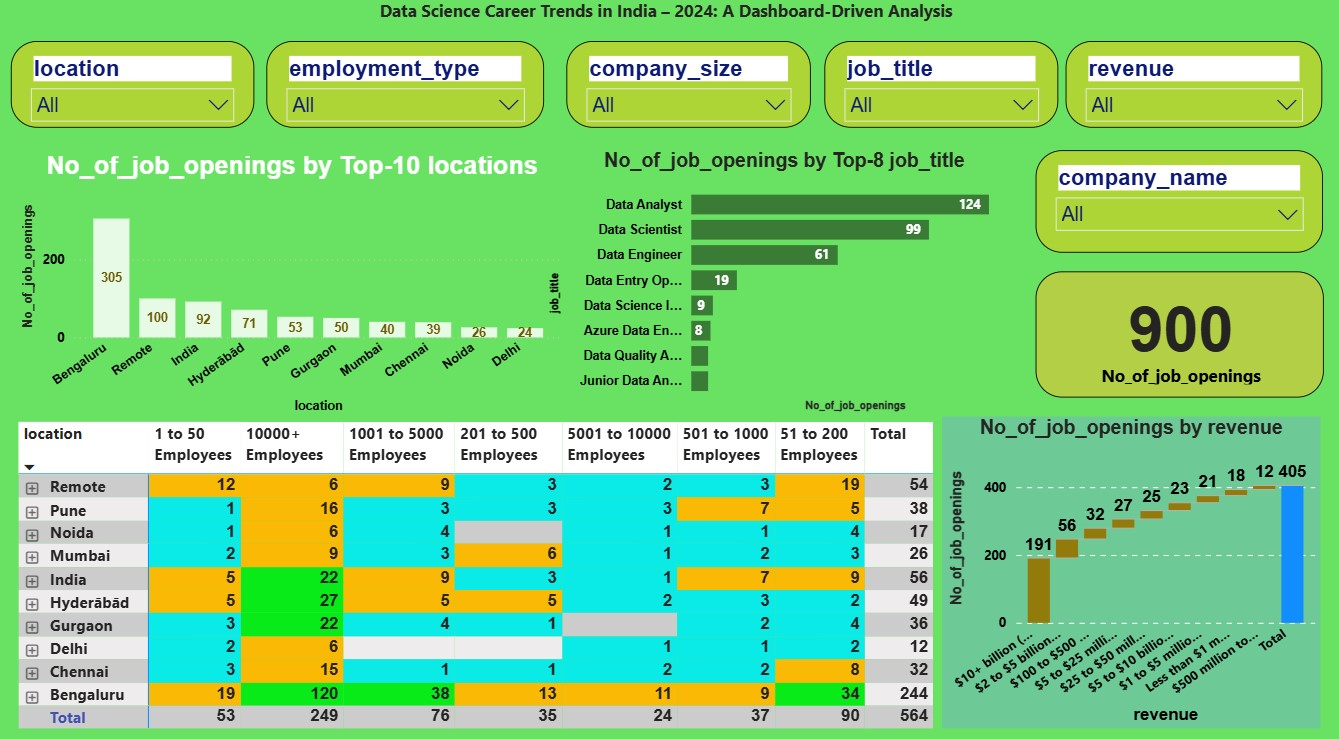

Layout of this report page (visuals, bound fields, positions):
{"tool":"powerbi","page":{"name":"Page 1","canvas":[1280,720],"ordinal":0},"visuals":[{"type":"slicer","fields":{"Values":["Glass door data science jobs -.location"]},"box":[15.7,45.7,231.4,82.9],"z":0},{"type":"slicer","fields":{"Values":["Glass door data science jobs -.job_title"]},"box":[790,45.7,222.9,82.9],"z":1000},{"type":"slicer","fields":{"Values":["Glass door data science jobs -.employment_type"]},"box":[258.6,45.7,264.3,82.9],"z":2000},{"type":"slicer","fields":{"Values":["Glass door data science jobs -.company_size"]},"box":[544.3,45.7,232.9,82.9],"z":3000},{"type":"slicer","fields":{"Values":["Glass door data science jobs -.company_name"]},"box":[990.9,150,273.7,97.3],"z":4000},{"type":"clusteredColumnChart","title":"No_of_job_openings by Top-10 locations","fields":{"Category":["Glass door data science jobs -.location"],"Y":["Glass door data science jobs -.No_of_job_openings"]},"box":[21.5,150.3,523.9,253.4],"z":5000},{"type":"card","fields":{"Values":["Glass door data science jobs -.No_of_job_openings"]},"box":[991.4,264.3,274.3,120],"z":6000},{"type":"pivotTable","title":"No_of_job_openings by Top-10 locations","fields":{"Rows":["Glass door data science jobs -.location","Glass door data science jobs -.job_title","Glass door data science jobs -.sector"],"Values":["Glass door data science jobs -.No_of_job_openings"],"Columns":["Glass door data science jobs -.company_size"]},"box":[18.3,403.3,883.3,316.7],"z":7000},{"type":"clusteredBarChart","title":"No_of_job_openings by Top-8 job_title","fields":{"Category":["Glass door data science jobs -.job_title"],"Y":["Glass door data science jobs -.No_of_job_openings"]},"box":[522.5,148.9,458.1,254.8],"z":8000},{"type":"slicer","fields":{"Values":["Glass door data science jobs -.revenue"]},"box":[1020,45.7,244.3,82.9],"z":9000},{"type":"waterfallChart","fields":{"Category":["Glass door data science jobs -.revenue"],"Y":["Glass door data science jobs -.No_of_job_openings"]},"box":[901.7,403.3,360,296.7],"z":10000},{"type":"textbox","box":[361.4,0,597.1,45.7],"z":11000}]}

Visuals, with their boxes in screenshot pixels (x1, y1, x2, y2), scaled from the page's 1280x720 canvas onto the 1339x739 screenshot:
slicer - Glass door data science jobs -.location: <box>16,47,258,132</box>
slicer - Glass door data science jobs -.job_title: <box>826,47,1060,132</box>
slicer - Glass door data science jobs -.employment_type: <box>271,47,547,132</box>
slicer - Glass door data science jobs -.company_size: <box>569,47,813,132</box>
slicer - Glass door data science jobs -.company_name: <box>1037,154,1323,254</box>
"No_of_job_openings by Top-10 locations" clusteredColumnChart: <box>22,154,571,414</box>
card - Glass door data science jobs -.No_of_job_openings: <box>1037,271,1324,394</box>
"No_of_job_openings by Top-10 locations" pivotTable: <box>19,414,943,738</box>
"No_of_job_openings by Top-8 job_title" clusteredBarChart: <box>547,153,1026,414</box>
slicer - Glass door data science jobs -.revenue: <box>1067,47,1323,132</box>
waterfallChart - Glass door data science jobs -.revenue x Glass door data science jobs -.No_of_job_openings: <box>943,414,1320,718</box>
textbox: <box>378,0,1003,47</box>
